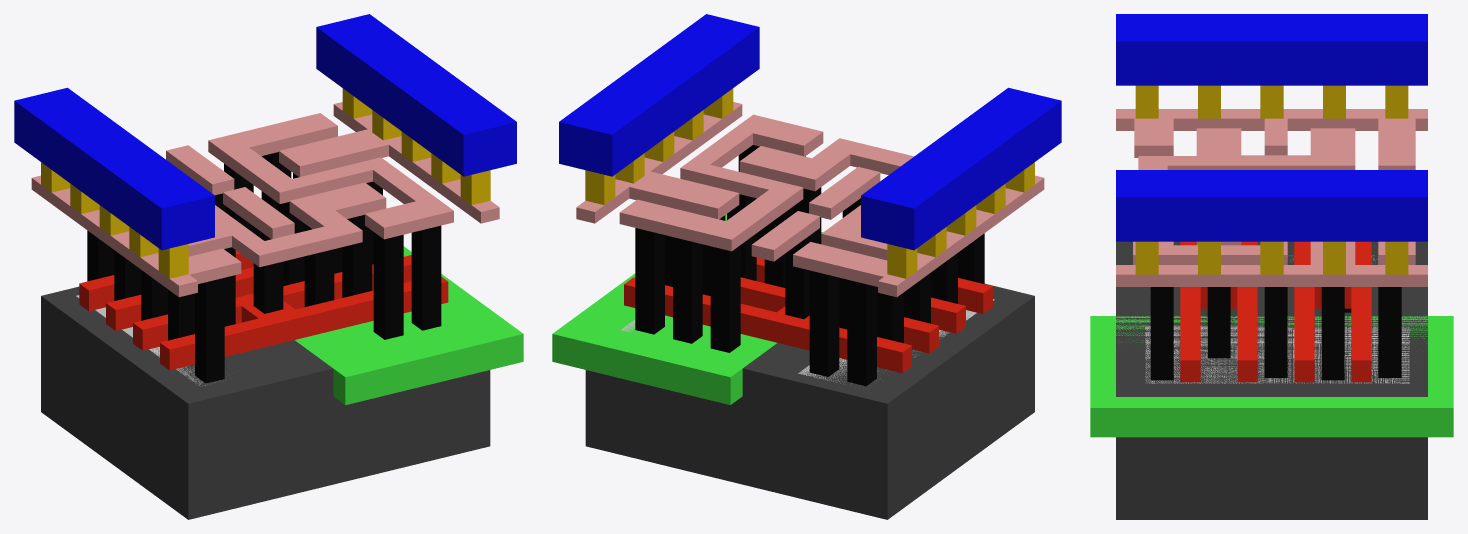
The model's file is sky130_fd_sc_hd__nor2_2.obj.
3 renders of one model, left to right at view 1: azimuth 30°, elevation 25°; view 2: azimuth 150°, elevation 25°; view 3: azimuth 270°, elevation 25°, orthographic. The views are drawn at different scales.
Visible parts, largest first — view 1: subs, metal1, li, licon, nwell, poly, mcon; view 2: subs, metal1, li, licon, nwell, poly, mcon; view 3: metal1, subs, li, nwell, licon, poly, mcon, tap.
Boxes of the visible parts, x1,y1,x2,y2 form: subs: (41, 286, 490, 519); metal1: (14, 14, 516, 250); li: (31, 102, 499, 297); licon: (87, 152, 441, 383); nwell: (295, 246, 523, 405); poly: (79, 250, 448, 370); mcon: (41, 88, 490, 278); subs: (585, 283, 1034, 519); metal1: (559, 14, 1061, 250); li: (576, 102, 1044, 297); licon: (635, 145, 984, 386); nwell: (552, 214, 822, 405); poly: (624, 257, 992, 373); mcon: (585, 88, 1034, 278); metal1: (1116, 14, 1427, 241); subs: (1116, 241, 1427, 519); li: (1116, 109, 1427, 286); nwell: (1090, 316, 1453, 437); licon: (1150, 287, 1401, 380); poly: (1180, 241, 1371, 382); mcon: (1135, 85, 1408, 274); tap: (1145, 326, 1409, 383).
Size of the model in its own units: 3.2 by 2.74 by 2.68.
